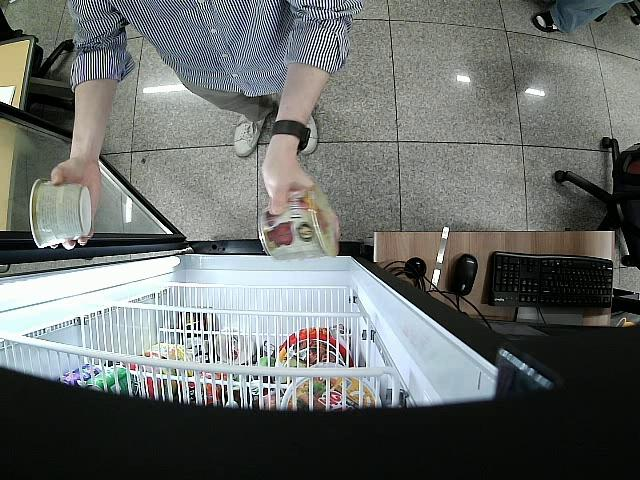00_hand: (50, 158, 99, 253), (262, 158, 314, 217)
04_chapagetti_S: (257, 189, 341, 260), (29, 180, 91, 250)
